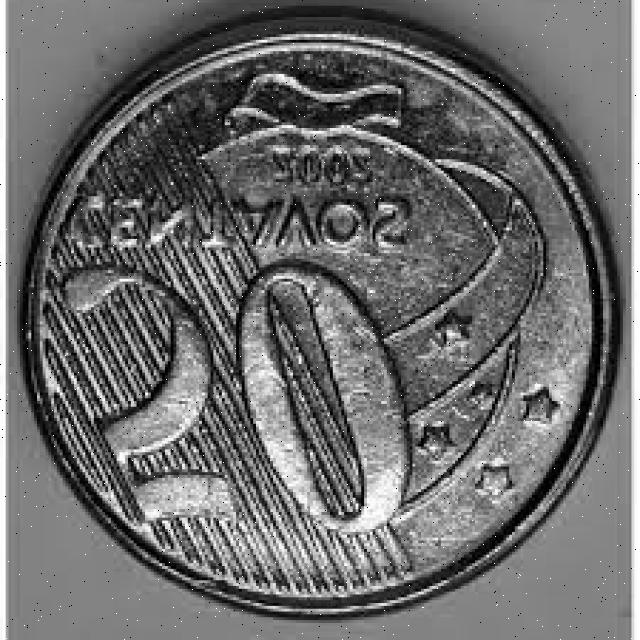50 cent: (22, 16, 621, 622)
